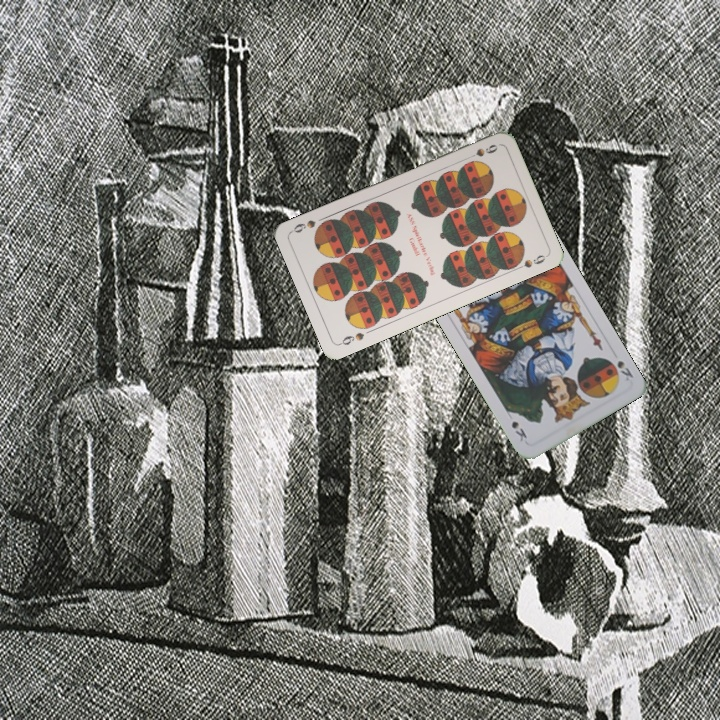S9: (462, 140, 500, 162), (336, 328, 367, 348)
SK: (605, 355, 636, 383)
